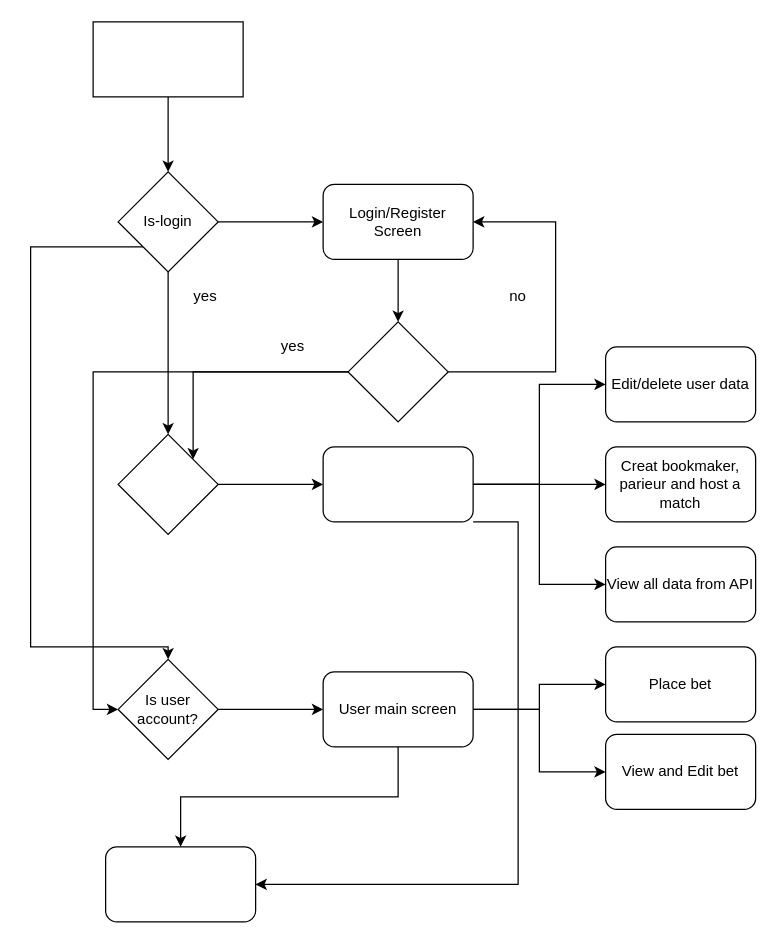
This 778x944 diagram has some shape labels left out. Each missing label, with the centre of its shape:
"Admin main screen" belongs at point 397,484.
"Is admin account?" belongs at point 167,483.
"Is-success?" belongs at point 397,371.
"Logout" belongs at point 180,884.
"Open app" belongs at point 167,59.
